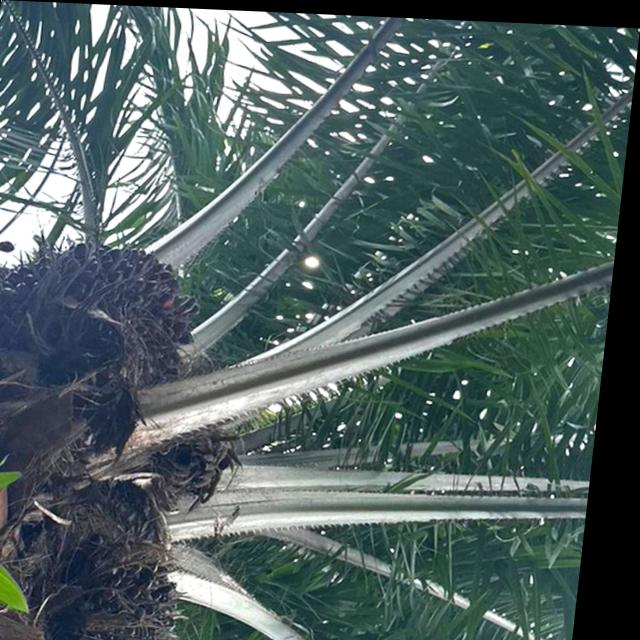ripe: (0, 241, 214, 404), (63, 532, 212, 640)
